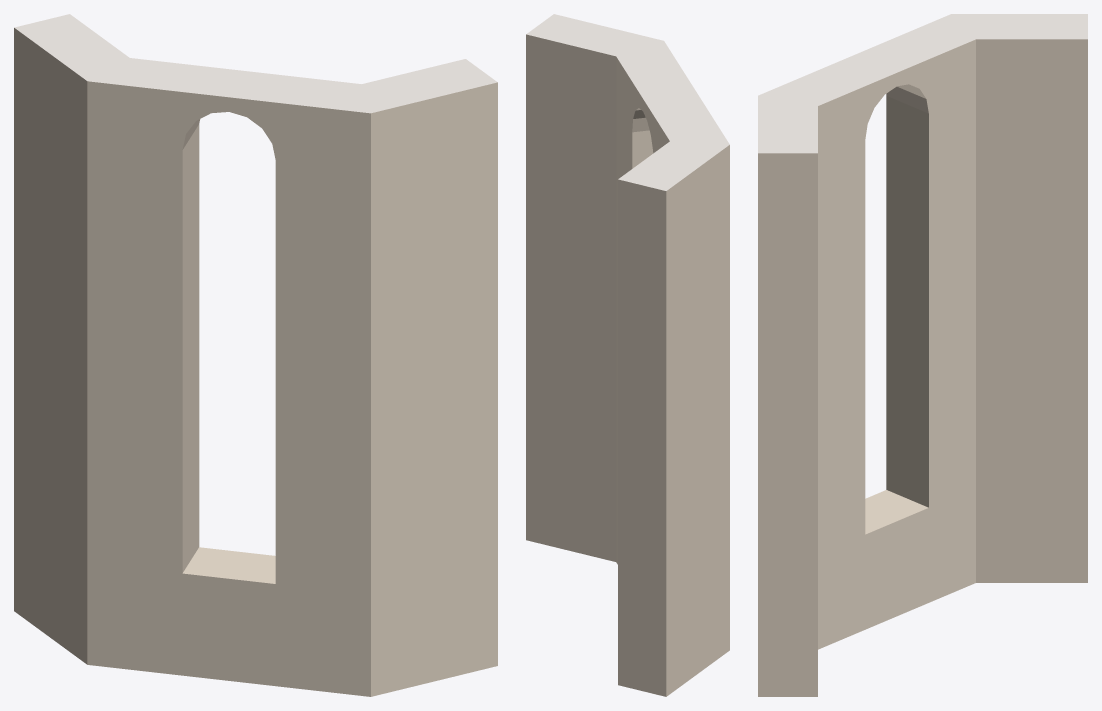
The model's file is Wall_Curved_Small_Window_Tall.glb.
3 renders of one model, left to right at view 1: azimuth 30°, elevation 25°; view 2: azimuth 150°, elevation 25°; view 3: azimuth 270°, elevation 25°, orthographic. The views are drawn at different scales.
Parts seen in each view (by area): view 1: Wall_Curved_Small_Window_Tall; view 2: Wall_Curved_Small_Window_Tall; view 3: Wall_Curved_Small_Window_Tall.
Part boxes in pixels (x1,y1,x2,y2): Wall_Curved_Small_Window_Tall: (14, 14, 497, 696); Wall_Curved_Small_Window_Tall: (526, 14, 729, 696); Wall_Curved_Small_Window_Tall: (758, 14, 1087, 696).
Size of the model in its own units: 1.1 by 2 by 1.1.
